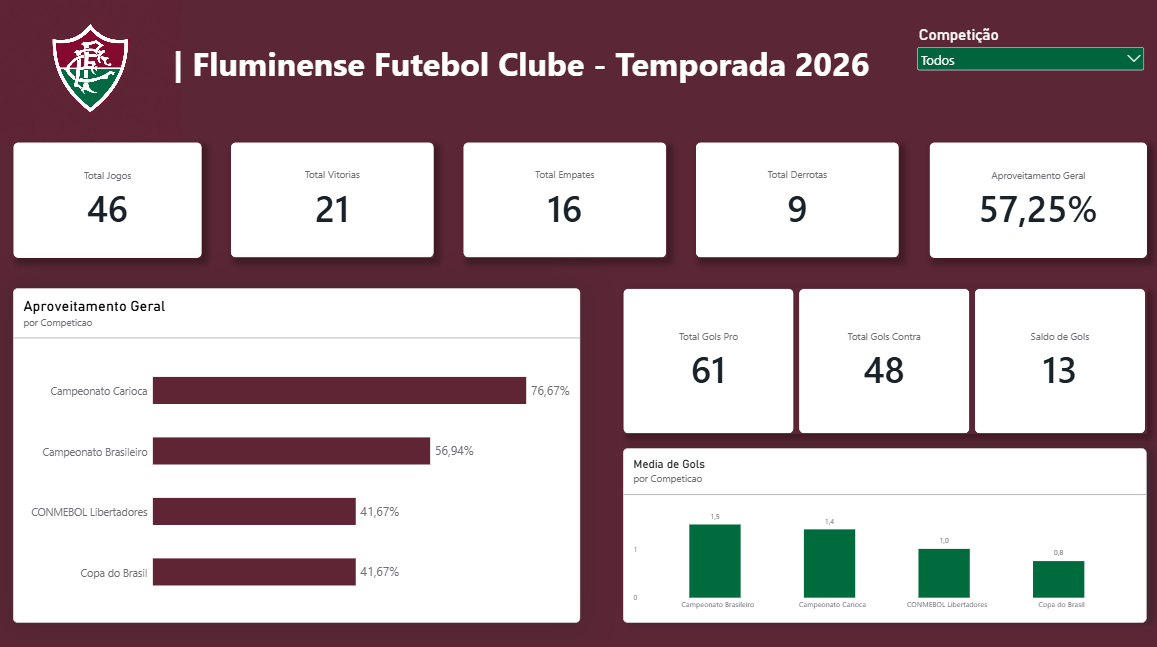

Layout of this report page (visuals, bound fields, positions):
{"tool":"powerbi","page":{"name":"Página 1","canvas":[1920,1080],"ordinal":0},"visuals":[{"type":"image","box":[0,0,304,240],"z":0},{"type":"textbox","box":[288,72,1176,96],"z":1000},{"type":"cardVisual","fields":{"Data":["Medidas.Total Jogos"]},"box":[24,240,312,192],"z":2000},{"type":"cardVisual","fields":{"Data":["Medidas.Total Vitorias"]},"box":[384,240,336,192],"z":3000},{"type":"cardVisual","fields":{"Data":["Medidas.Total Empates"]},"box":[768,240,336,192],"z":4000},{"type":"cardVisual","fields":{"Data":["Medidas.Total Derrotas"]},"box":[1152,240,336,192],"z":5000},{"type":"cardVisual","fields":{"Data":["Medidas.Aproveitamento Geral"]},"box":[1536,240,360,192],"z":6000},{"type":"cardVisual","fields":{"Data":["Medidas.Total Gols Pro","Medidas.Total Gols Contra","Medidas.Saldo de Gols"]},"box":[1032,480,864,240],"z":7000},{"type":"clusteredBarChart","fields":{"Category":["TblCompeticoes.Competicao"],"Y":["Medidas.Aproveitamento Geral"]},"box":[24,480,936,552],"z":8000},{"type":"lineClusteredColumnComboChart","fields":{"Category":["TblCompeticoes.Competicao"],"Y":["Medidas.Media Gols por Jogo"]},"box":[1032,744,864,288],"z":9000},{"type":"slicer","fields":{"Values":["TblCompeticoes.Competicao"]},"box":[1512,48,384,216],"z":10000}]}

Visuals, with their boxes in screenshot pixels (x1, y1, x2, y2), scaled from the page's 1920x1080 canvas onto the 1157x647 screenshot:
image: bbox(0, 0, 183, 144)
textbox: bbox(174, 43, 882, 101)
cardVisual - Medidas.Total Jogos: bbox(14, 144, 202, 259)
cardVisual - Medidas.Total Vitorias: bbox(231, 144, 434, 259)
cardVisual - Medidas.Total Empates: bbox(463, 144, 665, 259)
cardVisual - Medidas.Total Derrotas: bbox(694, 144, 897, 259)
cardVisual - Medidas.Aproveitamento Geral: bbox(926, 144, 1143, 259)
cardVisual - Medidas.Total Gols Pro x Medidas.Total Gols Contra: bbox(622, 288, 1143, 431)
clusteredBarChart - TblCompeticoes.Competicao x Medidas.Aproveitamento Geral: bbox(14, 288, 578, 618)
lineClusteredColumnComboChart - TblCompeticoes.Competicao x Medidas.Media Gols por Jogo: bbox(622, 446, 1143, 618)
slicer - TblCompeticoes.Competicao: bbox(911, 29, 1143, 158)
